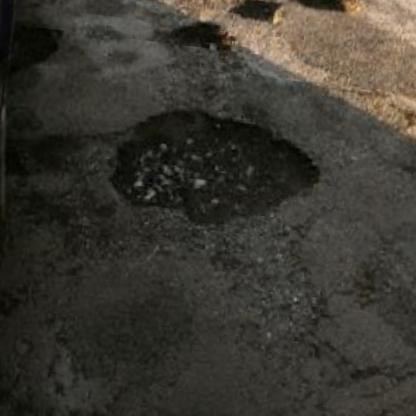pothole: (101, 95, 328, 242), (152, 16, 238, 79), (10, 19, 64, 80), (228, 0, 285, 29), (291, 0, 359, 17)
